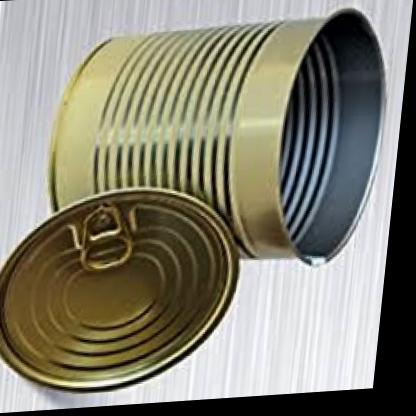Metal: (0, 0, 409, 389)
